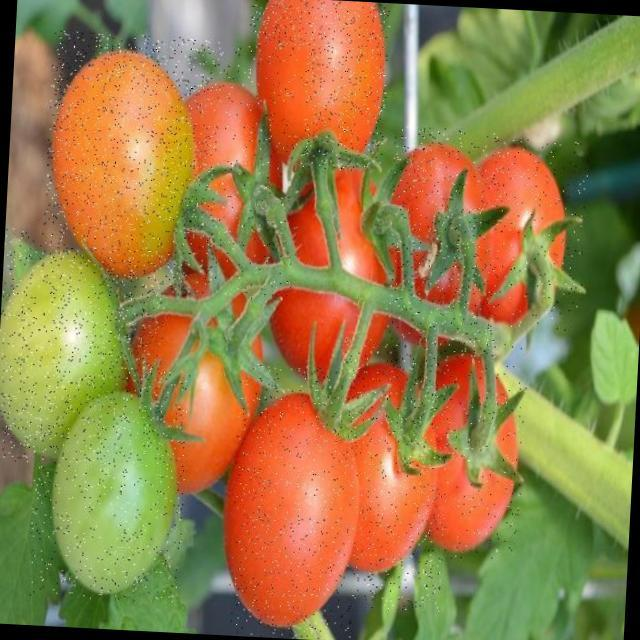Tomate: (40, 30, 223, 293), (0, 228, 168, 468), (226, 363, 368, 640), (27, 363, 189, 603), (161, 44, 305, 302), (330, 338, 453, 611), (383, 127, 505, 359), (406, 339, 527, 564), (242, 0, 391, 173), (461, 136, 590, 333)
